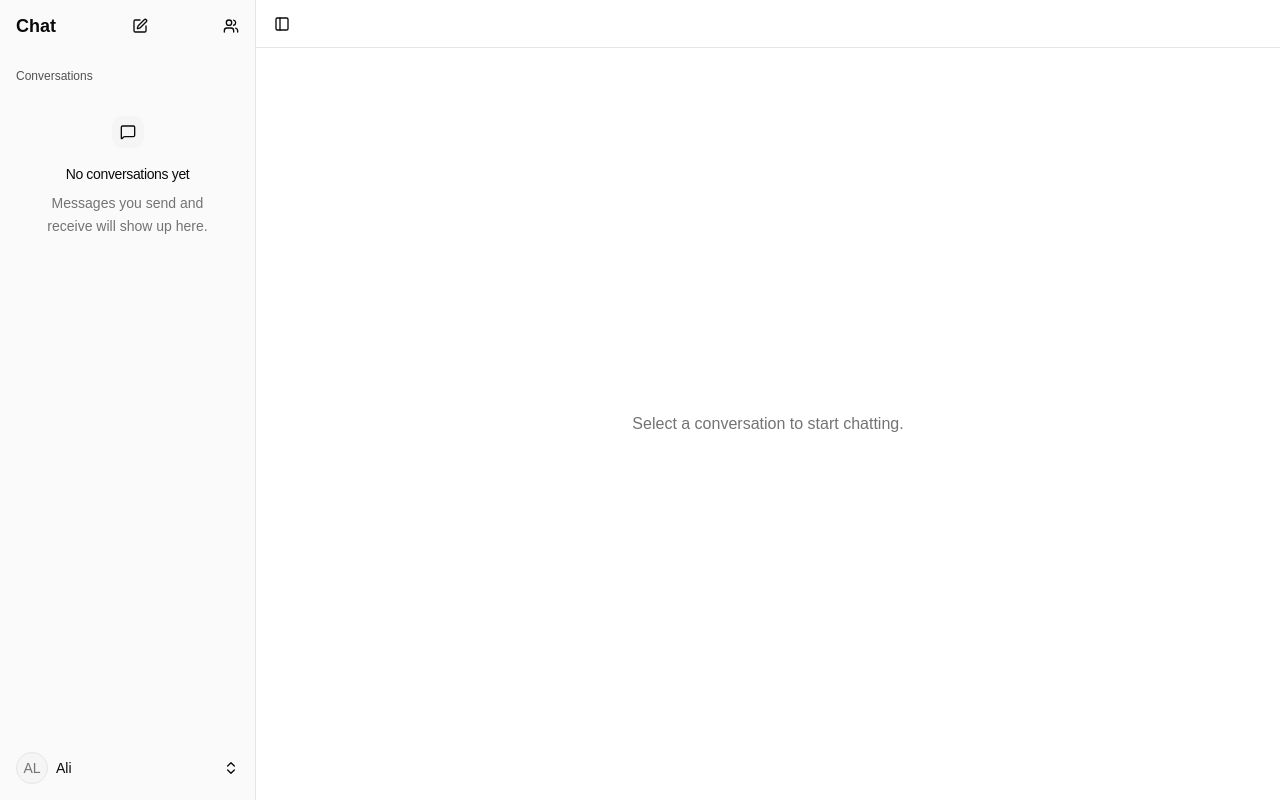
Test: new conversation: user search › shows an empty state when nobody matches
Expected: the text "No conversations yet" is shown, x1=66 y1=164 x2=189 y2=184
Click the button named "new conversation" at (140,26), box x1=124 y1=10 x2=156 y2=42
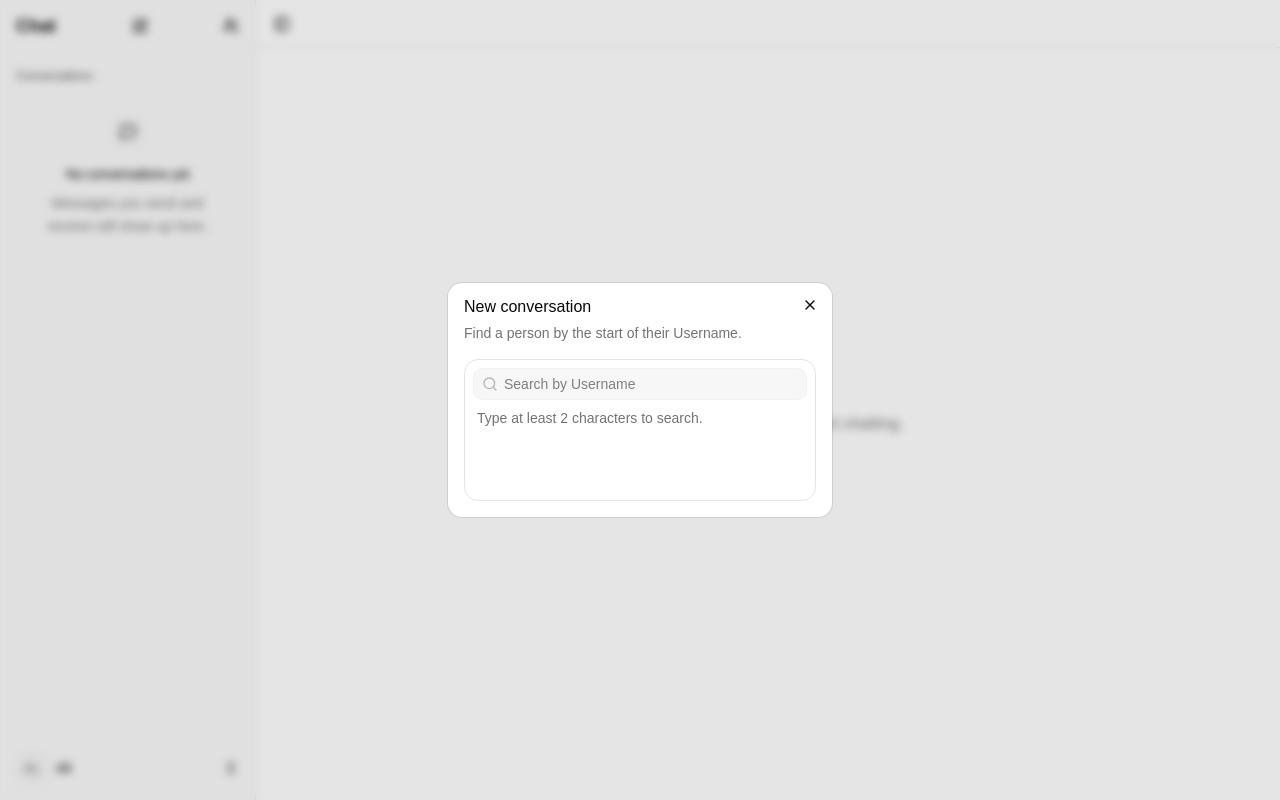
Type "nobody" into the dropdown at (652,384), box x1=498 y1=374 x2=806 y2=394
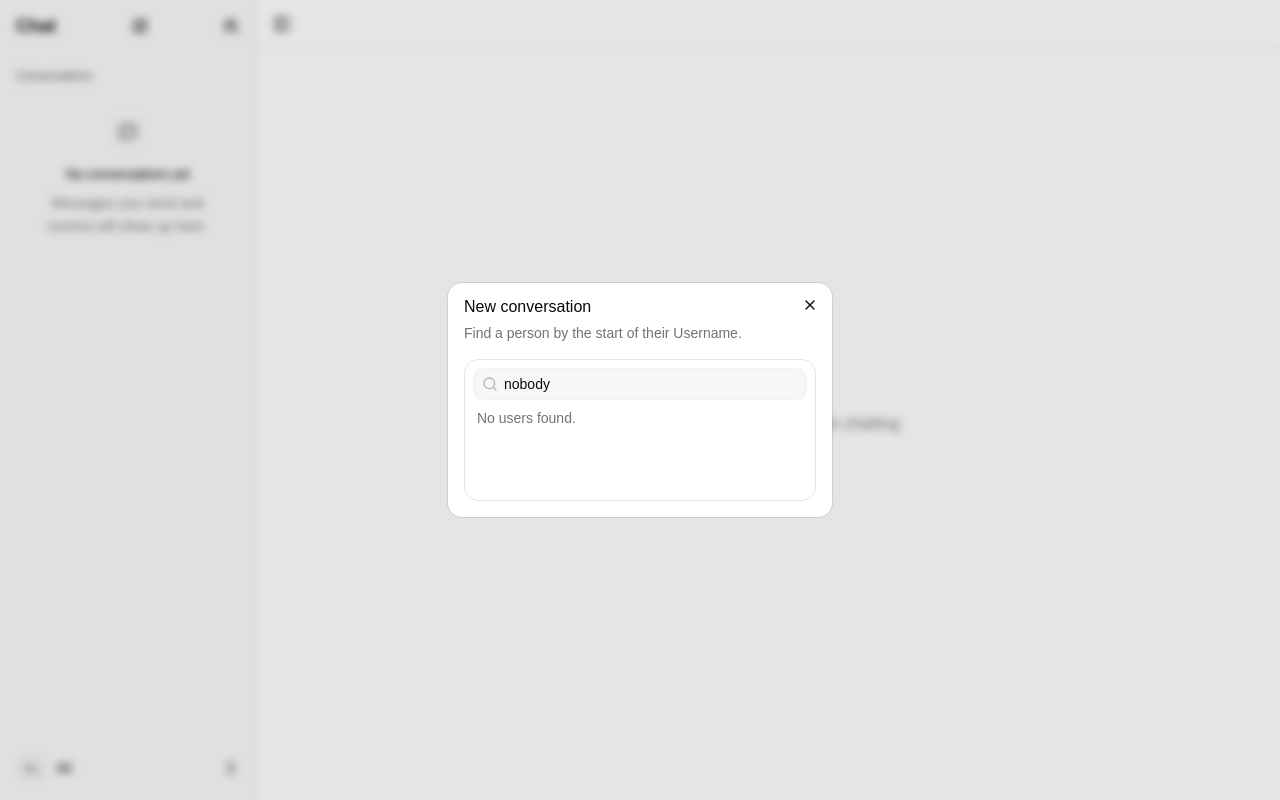
Expected: the text "No users found." is shown, x1=477 y1=410 x2=576 y2=426
